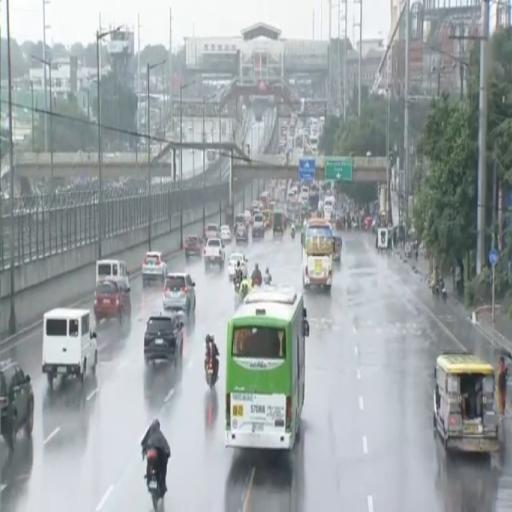bus: (225, 286, 309, 450), (301, 218, 334, 292), (259, 191, 269, 209)
car: (0, 359, 34, 449), (144, 314, 184, 365), (94, 280, 131, 325), (163, 272, 196, 314), (142, 251, 167, 284), (228, 252, 247, 280), (184, 235, 202, 259), (252, 214, 264, 239), (204, 223, 220, 240), (236, 227, 248, 244), (221, 226, 232, 244)
motorcycle: (145, 450, 163, 510), (206, 358, 217, 389), (432, 283, 447, 301), (252, 277, 261, 286), (234, 281, 240, 293), (264, 275, 271, 284), (291, 230, 294, 239)
truck: (204, 238, 225, 269), (204, 223, 220, 239)
